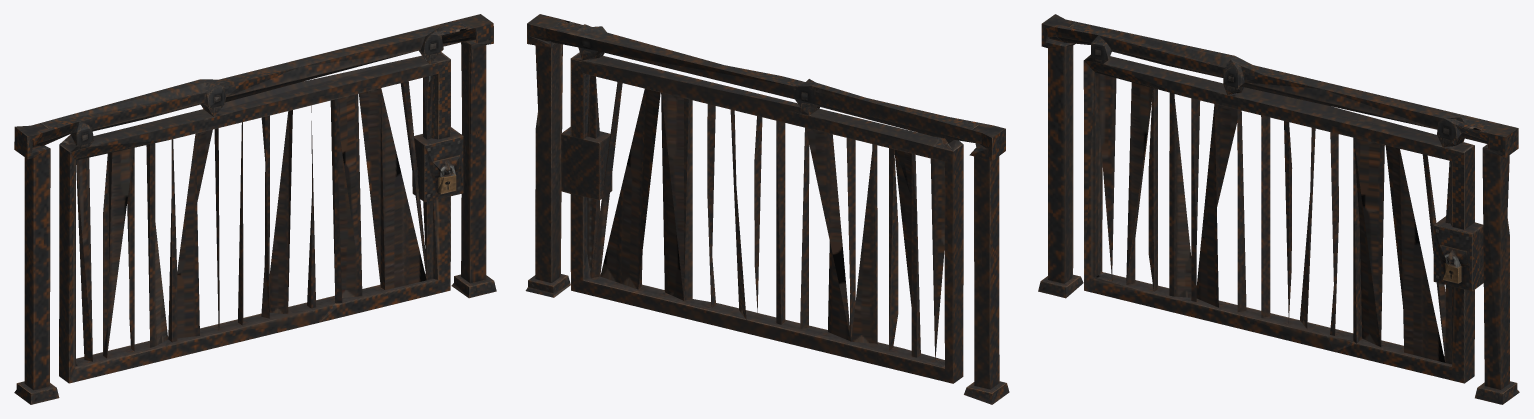
Rendered from Meshy_AI_model.glb.
The picture shows the model from 3 angles, left to right: view 1: azimuth 30°, elevation 25°; view 2: azimuth 150°, elevation 25°; view 3: azimuth 330°, elevation 25°; orthographic projection.
Parts seen in each view (by area): view 1: output_unwrapped; view 2: output_unwrapped; view 3: output_unwrapped.
Boxes of the visible parts, bbox=[...] form: output_unwrapped: bbox=[14, 14, 496, 404]; output_unwrapped: bbox=[525, 14, 1009, 404]; output_unwrapped: bbox=[1038, 14, 1519, 404].
Size of the model in its own units: 1.9 by 1.06 by 0.1407.
Materials: 1 (1 with a texture image).
